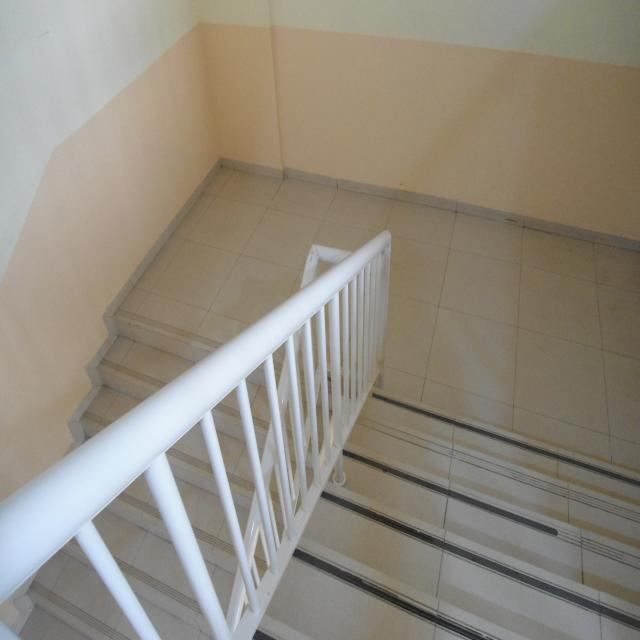railing: (2, 225, 398, 640)
stairs: (253, 370, 640, 640), (3, 312, 297, 640)
wall: (2, 1, 213, 637), (213, 6, 640, 246)
